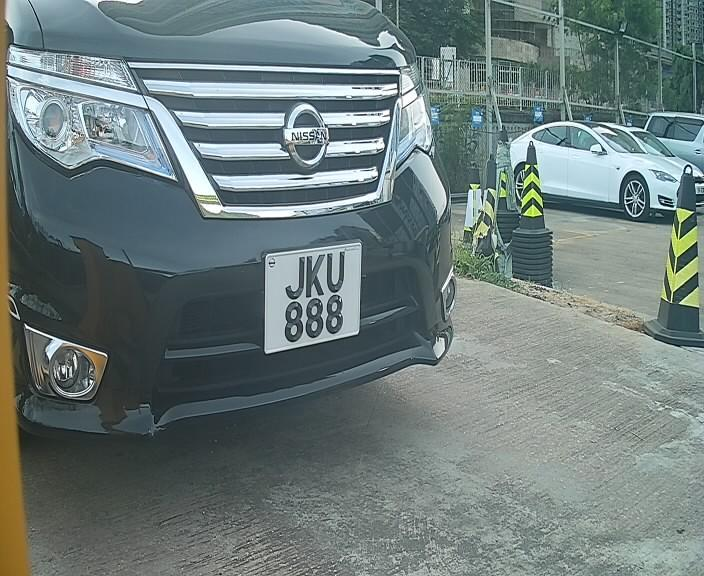privatecar: (7, 13, 475, 451)
